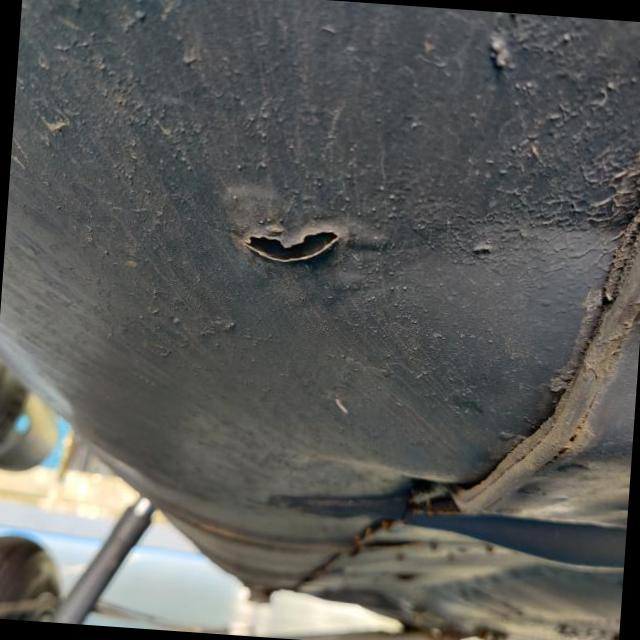Paint-off: (221, 196, 377, 273)
